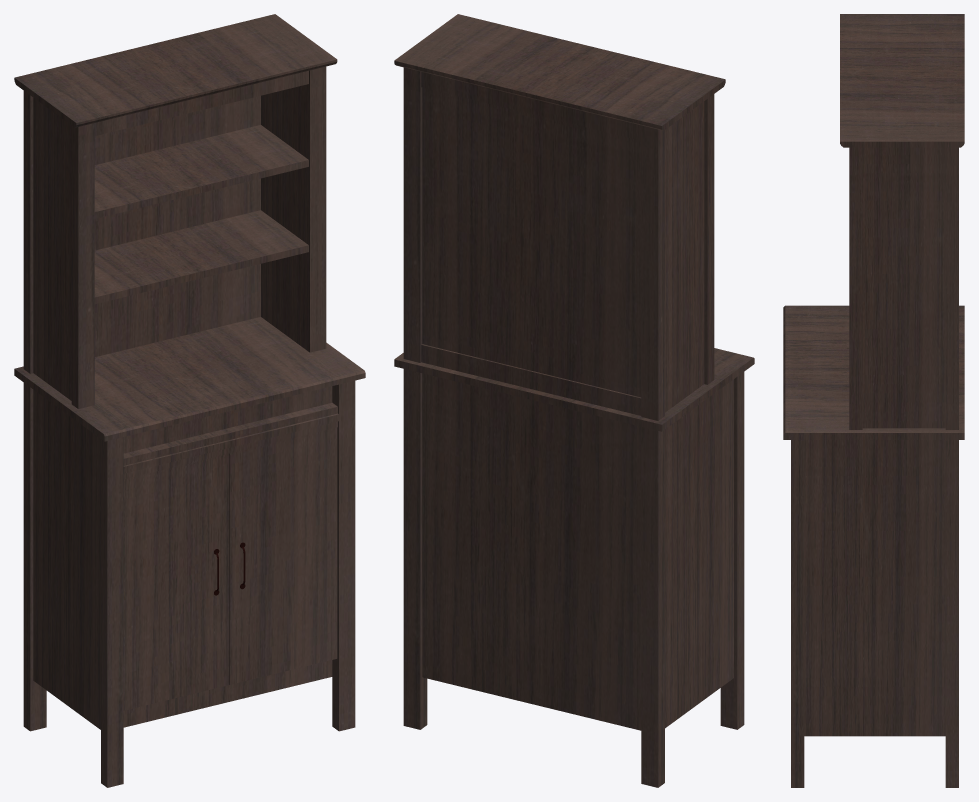
File: BRUSALI_Sideboard_Table.obj
3 renders of one model, left to right at view 1: azimuth 30°, elevation 25°; view 2: azimuth 150°, elevation 25°; view 3: azimuth 270°, elevation 25°, orthographic. The views are drawn at different scales.
Visible parts, largest first — view 1: Revit_008539_01; view 2: Revit_008539_01; view 3: Revit_008539_01.
Part boxes in pixels (x1,y1,x2,y2): Revit_008539_01: (14, 14, 365, 787); Revit_008539_01: (394, 14, 754, 787); Revit_008539_01: (783, 14, 964, 787).
Size of the model in its own units: 800 by 1900 by 480.
